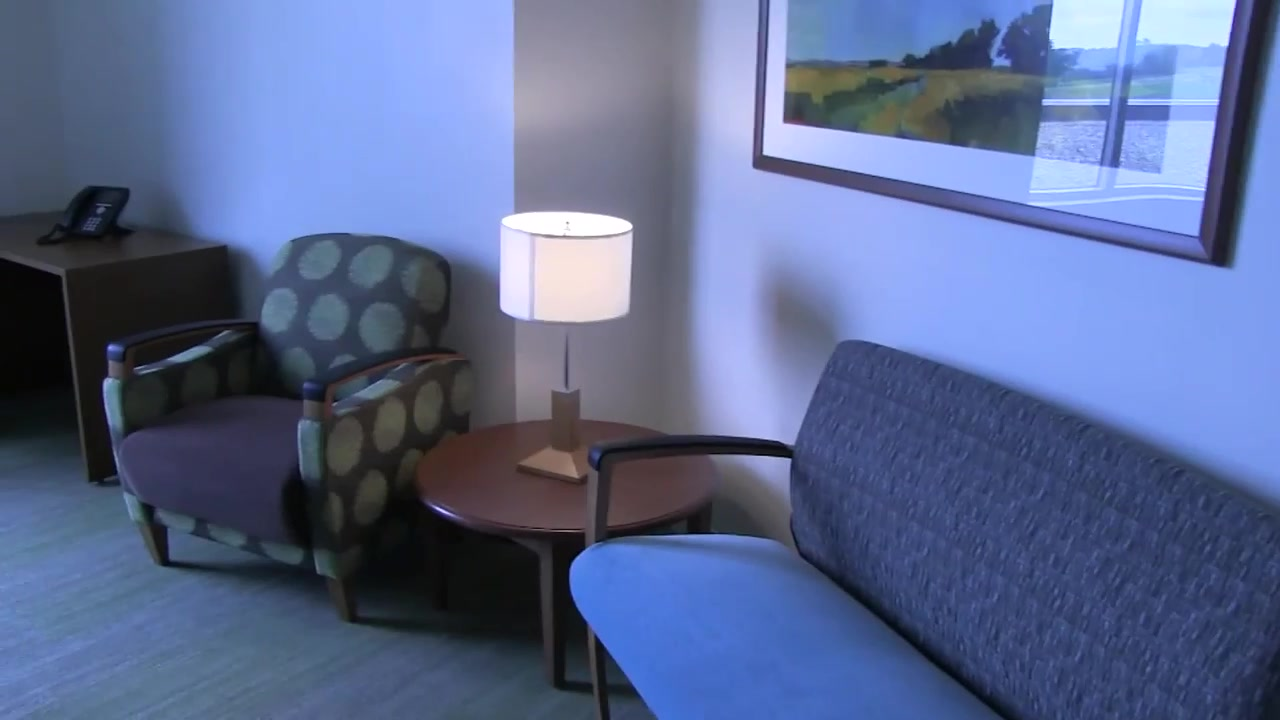sofa: (569, 338, 1280, 720), (102, 232, 479, 620)
table: (413, 418, 718, 692), (1, 212, 228, 483)
telephone: (33, 184, 132, 249)
